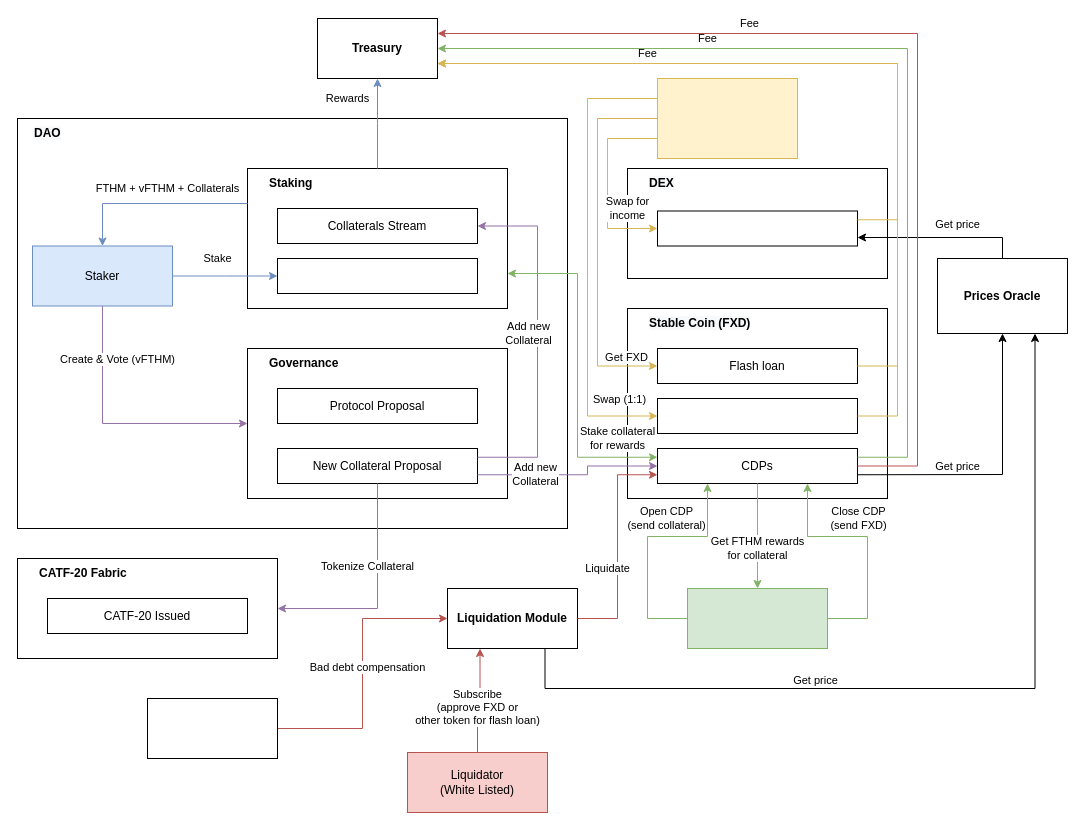
The diagram is 1085 pixels wide and 830 high, and some of its shapes have lost their labels. The centre of each missing label's shape, as x and y in pixels:
Arbitrager: the point at 727,118
FTHM Stream: the point at 377,276
FXD Borrower: the point at 757,618
Insurance: the point at 212,728
Pairs: the point at 757,228
Stable Swap (1 FXD = 1 USDT): the point at 757,416
